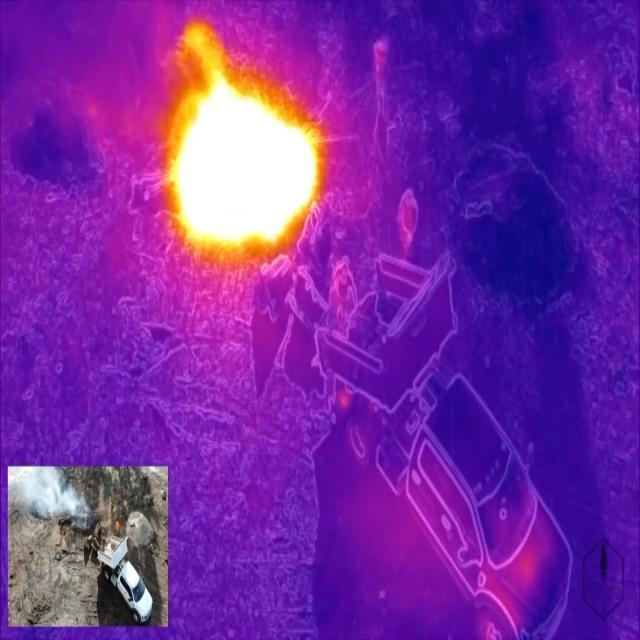fire: (157, 20, 325, 259)
